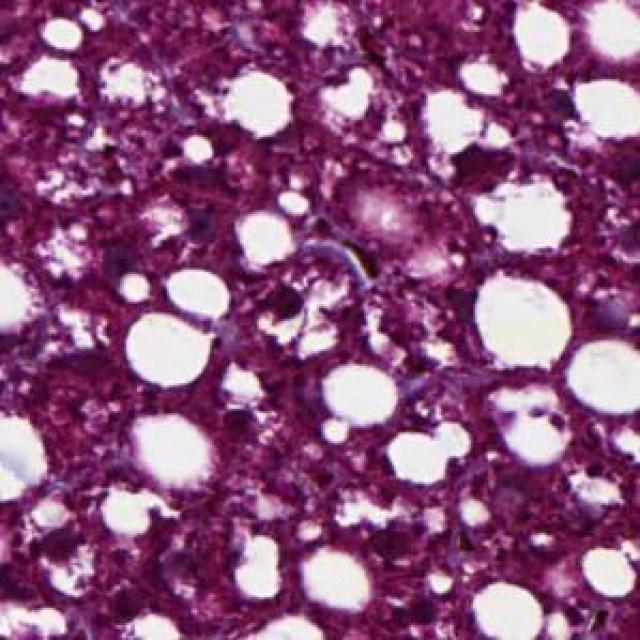steatosis: (467, 274, 567, 368), (208, 60, 308, 150), (122, 306, 218, 390), (312, 360, 404, 426)
